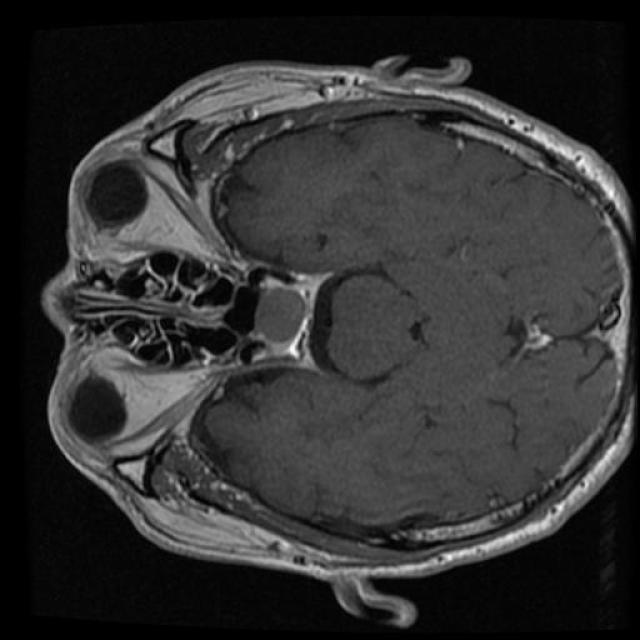Pituitary: (243, 268, 331, 366)
